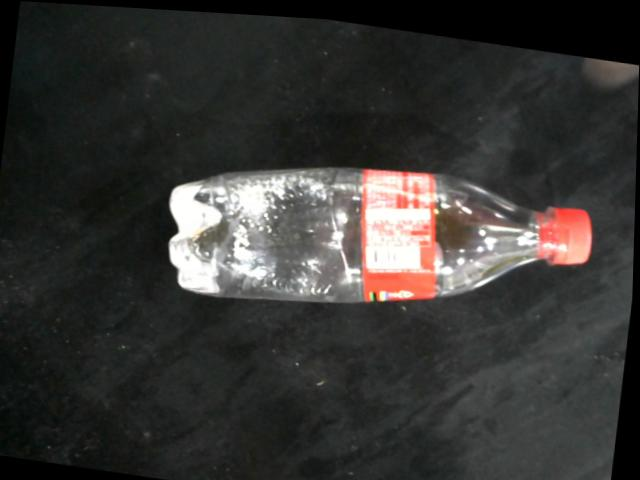bottle: (169, 161, 594, 298)
